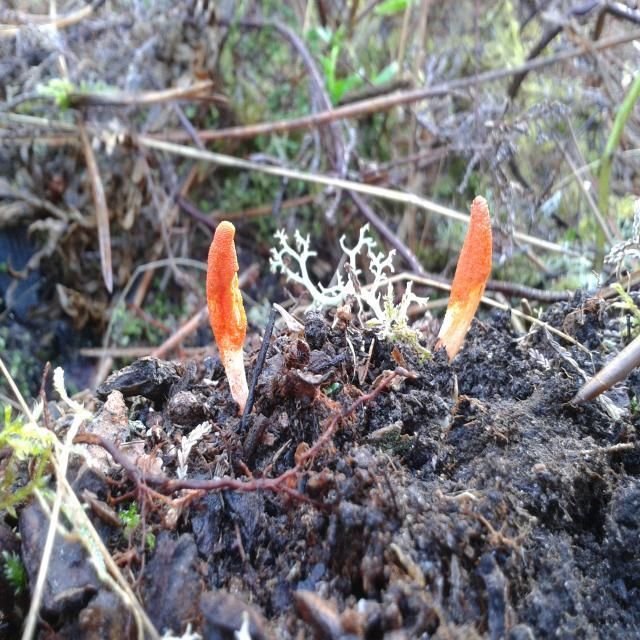Cordyceps militaris: (209, 219, 255, 412), (448, 194, 489, 371)
